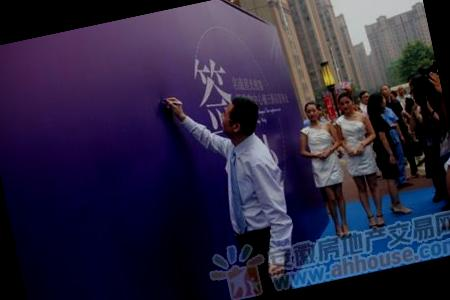no_helmet: (218, 92, 268, 148), (337, 87, 360, 118), (368, 90, 392, 115), (302, 98, 324, 124), (358, 87, 374, 106), (379, 82, 394, 100)
